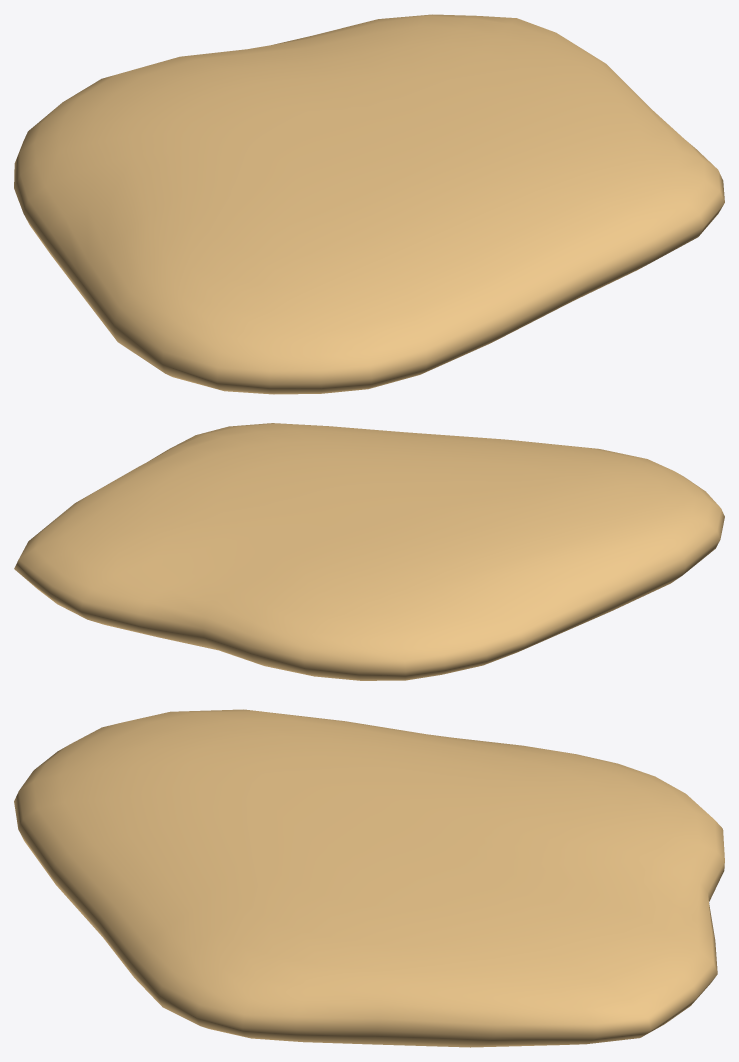
The model's file is island4.gltf.
3 views of the same model, one above another, from view 1: azimuth 30°, elevation 25°; view 2: azimuth 150°, elevation 25°; view 3: azimuth 270°, elevation 25° (orthographic). The views are drawn at different scales.
Visible parts, largest first — view 1: Island.002; view 2: Island.002; view 3: Island.002.
Part boxes in pixels (x1,y1,x2,y2): Island.002: (14,14,724,394); Island.002: (14,423,724,680); Island.002: (14,709,724,1047).
Size of the model in its own units: 6.05 by 1.05 by 5.94.
